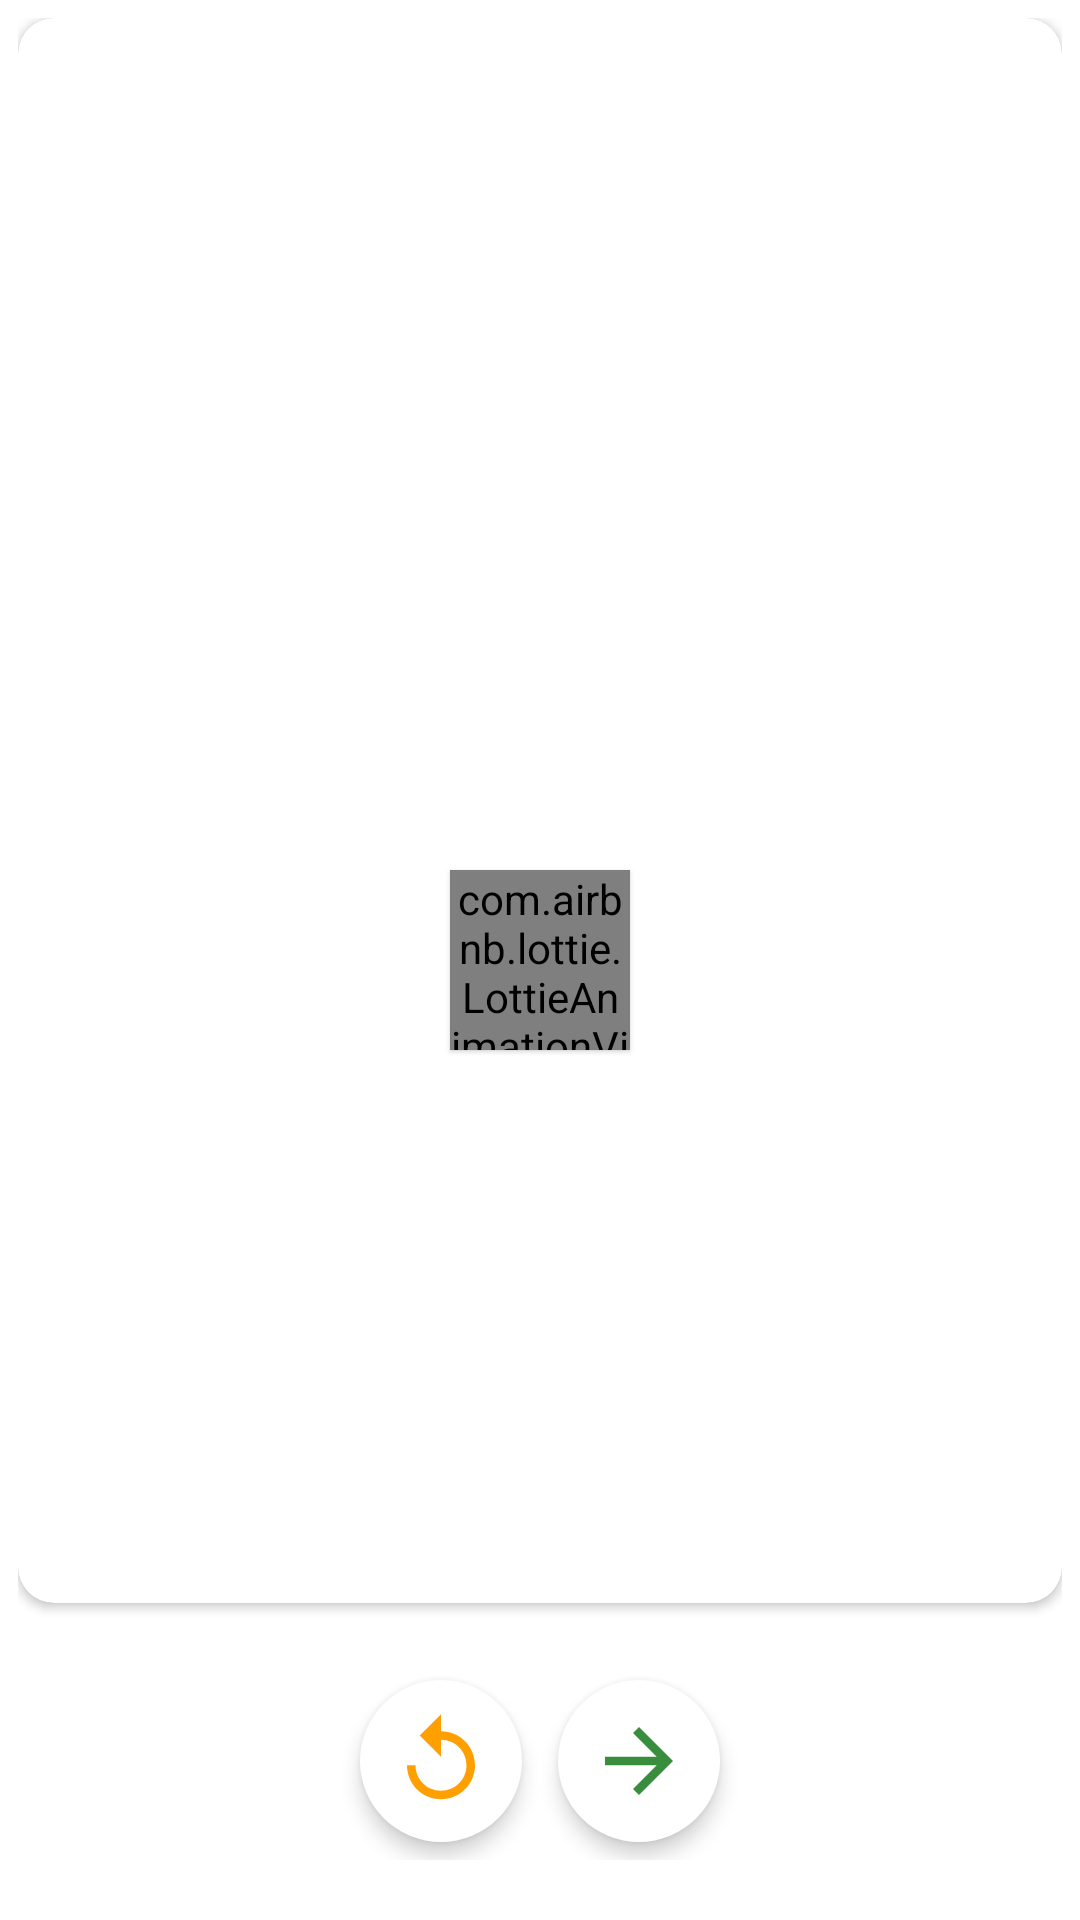

Icon bounding boxes for this 1080*1920 phone screenshot, format (x1, y1, x2, y2):
next: (605, 1727, 673, 1795)
